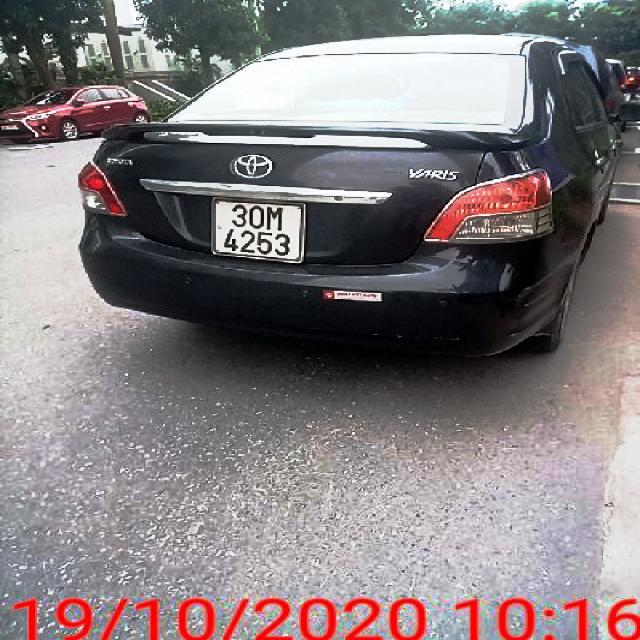license_plate: (213, 200, 305, 261)
